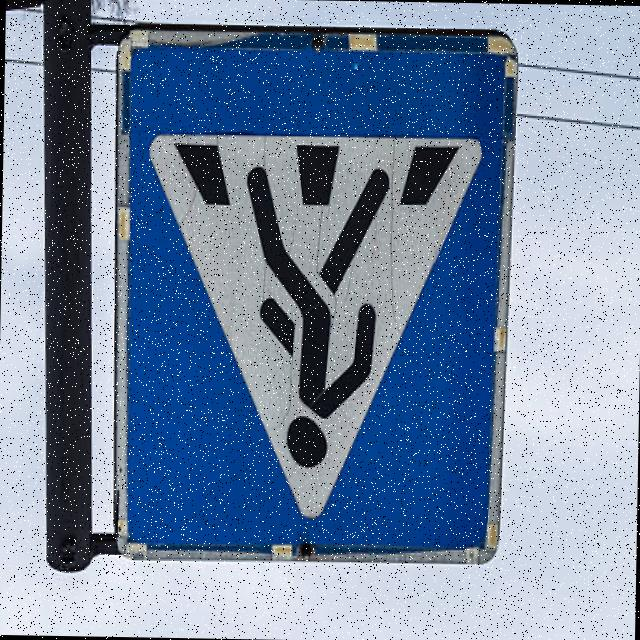crosswalk: (106, 22, 517, 584)
